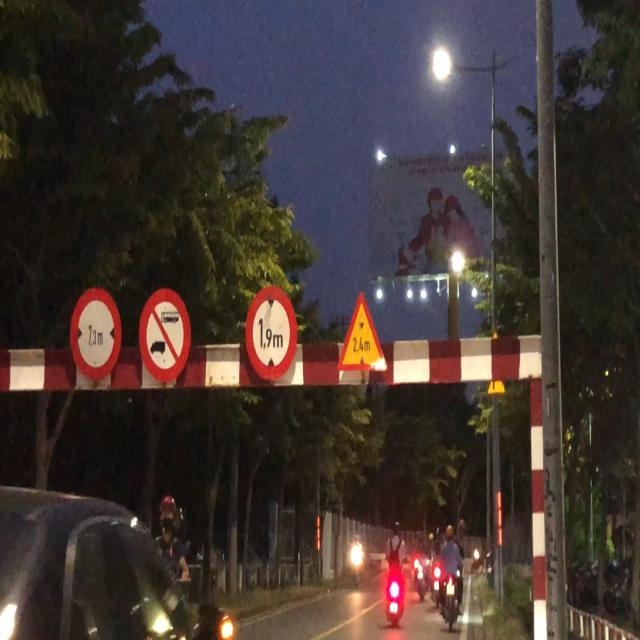Bien bao cam xe oto khach va xe oto tai: (137, 284, 192, 386)
Bien bao chieu cao tinh khong thuc te: (334, 286, 387, 376)
Bien bao han che chieu cao: (245, 284, 303, 392)
